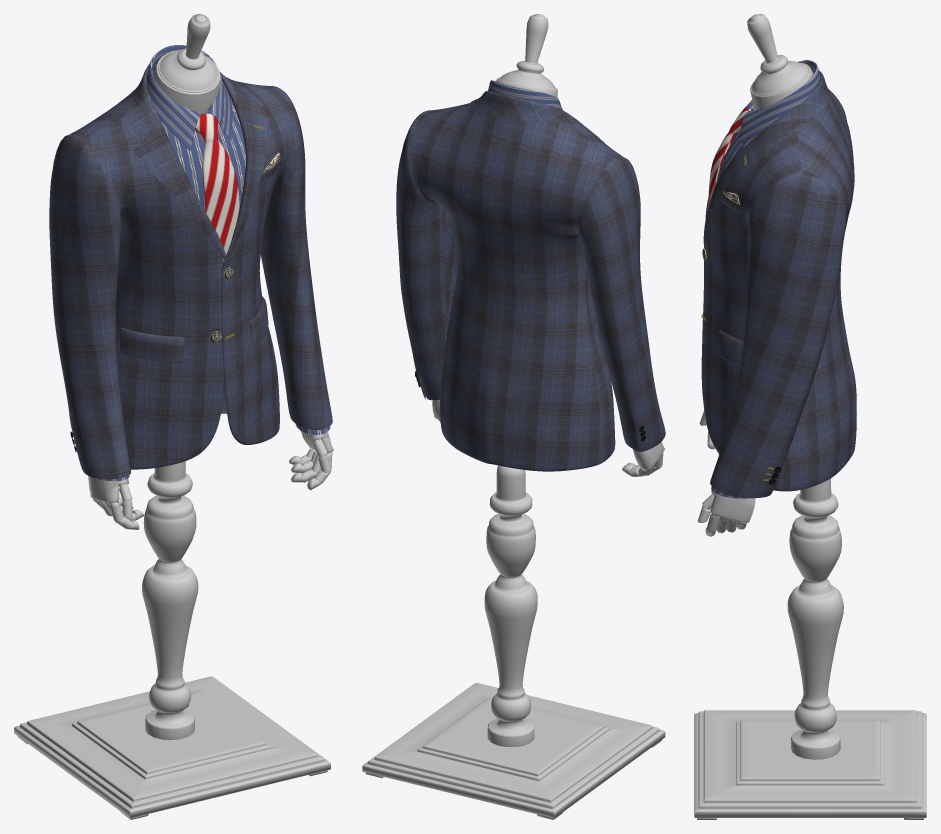
File: suit001.gltf
The picture shows the model from 3 angles, left to right: view 1: azimuth 30°, elevation 25°; view 2: azimuth 150°, elevation 25°; view 3: azimuth 270°, elevation 25°; orthographic projection. The views are drawn at different scales.
Parts seen in each view (by area): view 1: waitao_low_14, Suit_yijia_2, lingzi_low_20, xizhuang13_Retopo_26, lingzi002_42, chenshan_low_16, koudai_right_low_30; view 2: waitao_low_14, Suit_yijia_2, lingzi_low_20, lingzi002_42; view 3: waitao_low_14, Suit_yijia_2, lingzi_low_20, lingzi002_42, xizhuang13_Retopo_26, koudai_left_low_28, chenshan_low_16.
Part boxes in pixels (<box>): waitao_low_14: <box>49,80,332,479</box>; Suit_yijia_2: <box>14,14,333,819</box>; lingzi_low_20: <box>127,64,269,273</box>; xizhuang13_Retopo_26: <box>195,113,239,261</box>; lingzi002_42: <box>146,45,232,150</box>; chenshan_low_16: <box>96,95,330,481</box>; koudai_right_low_30: <box>119,328,184,362</box>; waitao_low_14: <box>396,101,665,471</box>; Suit_yijia_2: <box>362,14,665,819</box>; lingzi_low_20: <box>470,91,604,142</box>; lingzi002_42: <box>488,80,563,110</box>; waitao_low_14: <box>701,89,856,498</box>; Suit_yijia_2: <box>694,14,926,819</box>; lingzi_low_20: <box>703,70,830,245</box>; lingzi002_42: <box>736,60,820,146</box>; xizhuang13_Retopo_26: <box>708,108,751,208</box>; koudai_left_low_28: <box>717,330,743,366</box>; chenshan_low_16: <box>711,110,759,498</box>.
Bounding box in the file's own units: 0.8431 × 2.5 × 0.694.
